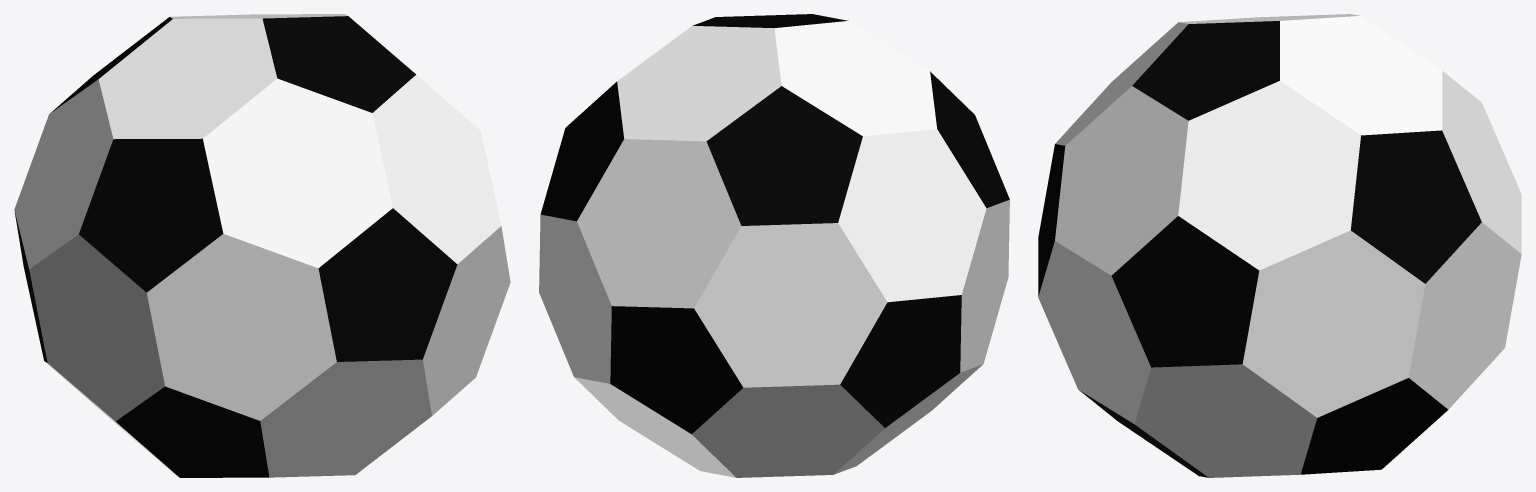
The model's file is Ball.fbx.
3 renders of one model, left to right at view 1: azimuth 30°, elevation 25°; view 2: azimuth 150°, elevation 25°; view 3: azimuth 270°, elevation 25°, orthographic. The views are drawn at different scales.
Visible parts, largest first — view 1: Cube; view 2: Cube; view 3: Cube.
Part boxes in pixels (left/top/right/bottom): Cube: left=14, top=14, right=510, bottom=477; Cube: left=539, top=14, right=1009, bottom=477; Cube: left=1038, top=14, right=1521, bottom=477.
Size of the model in its own units: 1.97 by 2 by 1.95.
